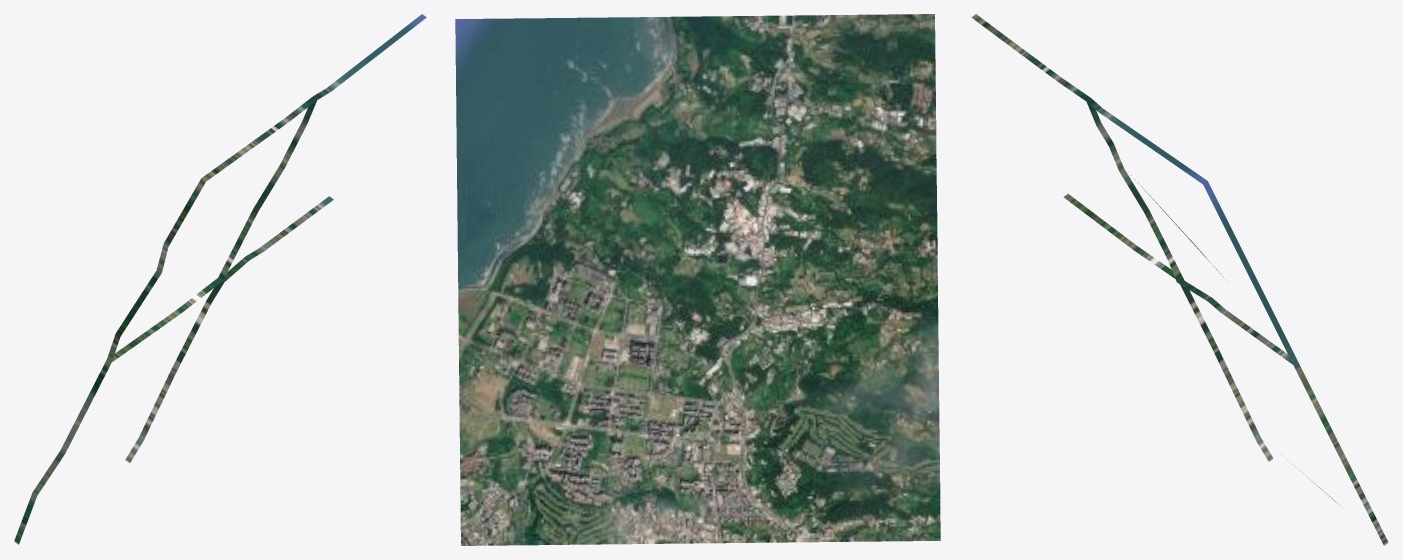
3 views of the same model, side by side, from view 1: azimuth 30°, elevation 25°; view 2: azimuth 150°, elevation 25°; view 3: azimuth 270°, elevation 25° (orthographic). The views are drawn at different scales.
Bounding box in the file's own units: 4935 × 4463 × 4086.
1 material, 1 textured.
